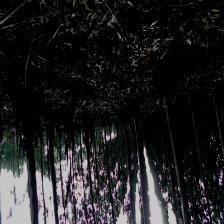trunk: (163, 94, 190, 218), (21, 111, 39, 221), (132, 110, 146, 202), (48, 123, 58, 221), (123, 119, 132, 196)
